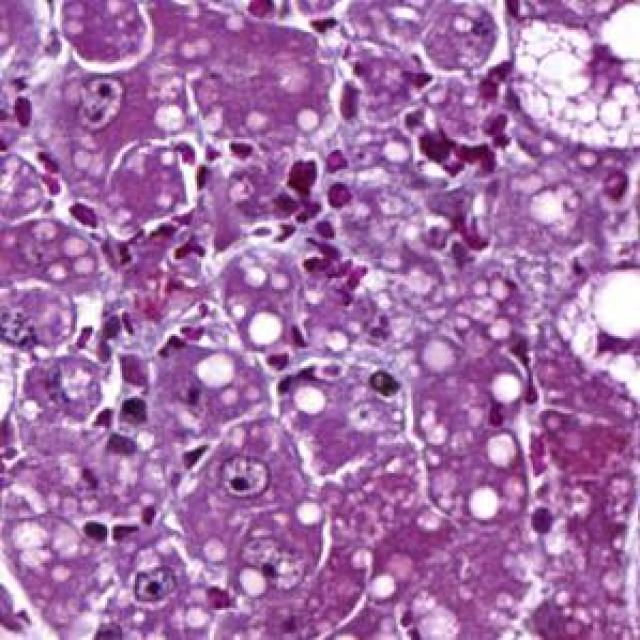ballooning: (503, 15, 636, 152)
